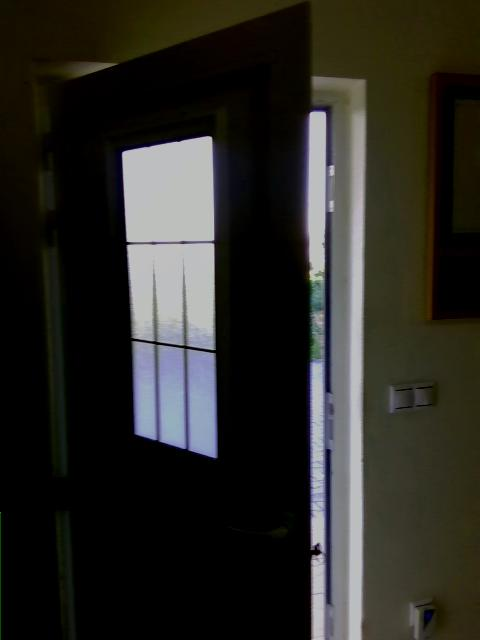semi_door: (34, 3, 371, 639)
